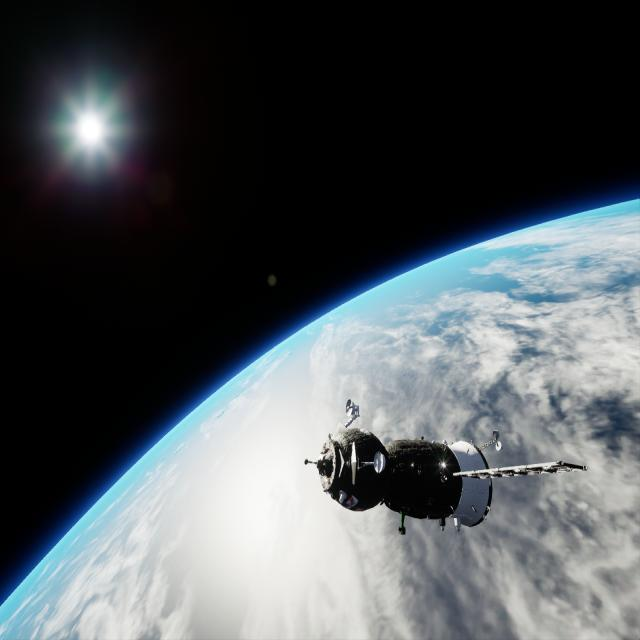Satellites revolving around earth: (302, 399, 590, 540)
